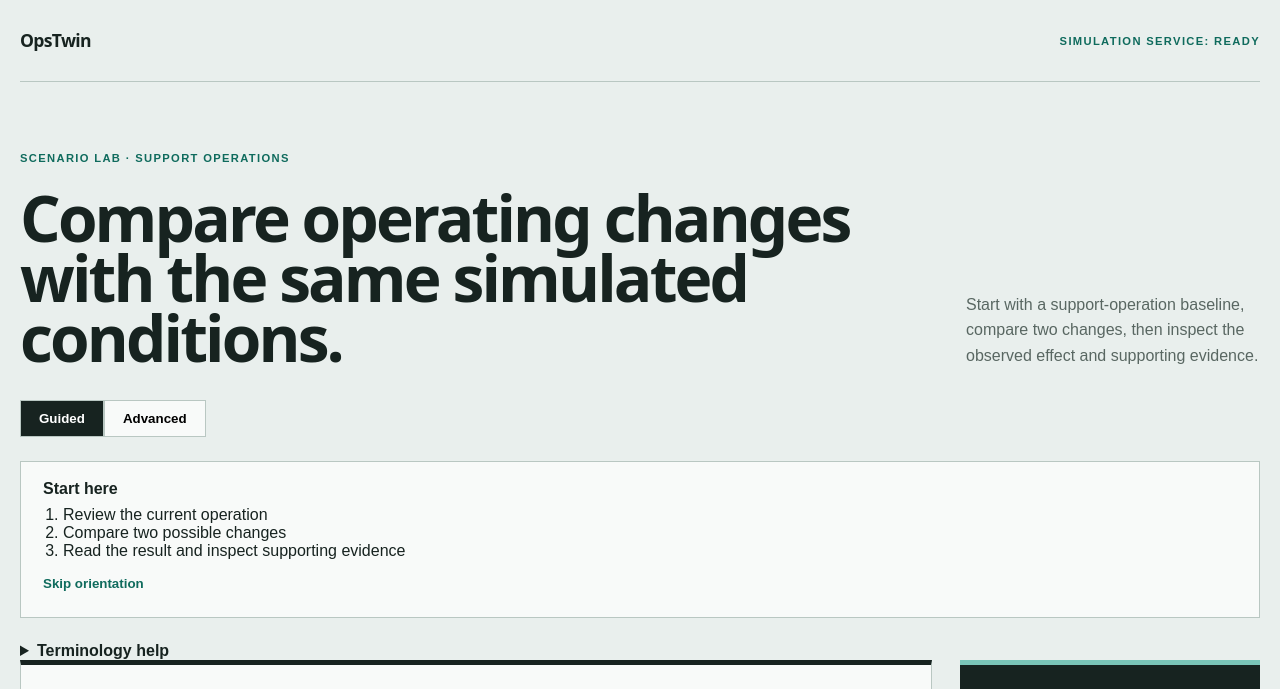
Test: Guided evidence navigation › preserves Advanced mode's full detailed workspace unchanged
Click the button "Advanced".
click(155, 419)  # box [104,400,206,438]
(page scrolled)
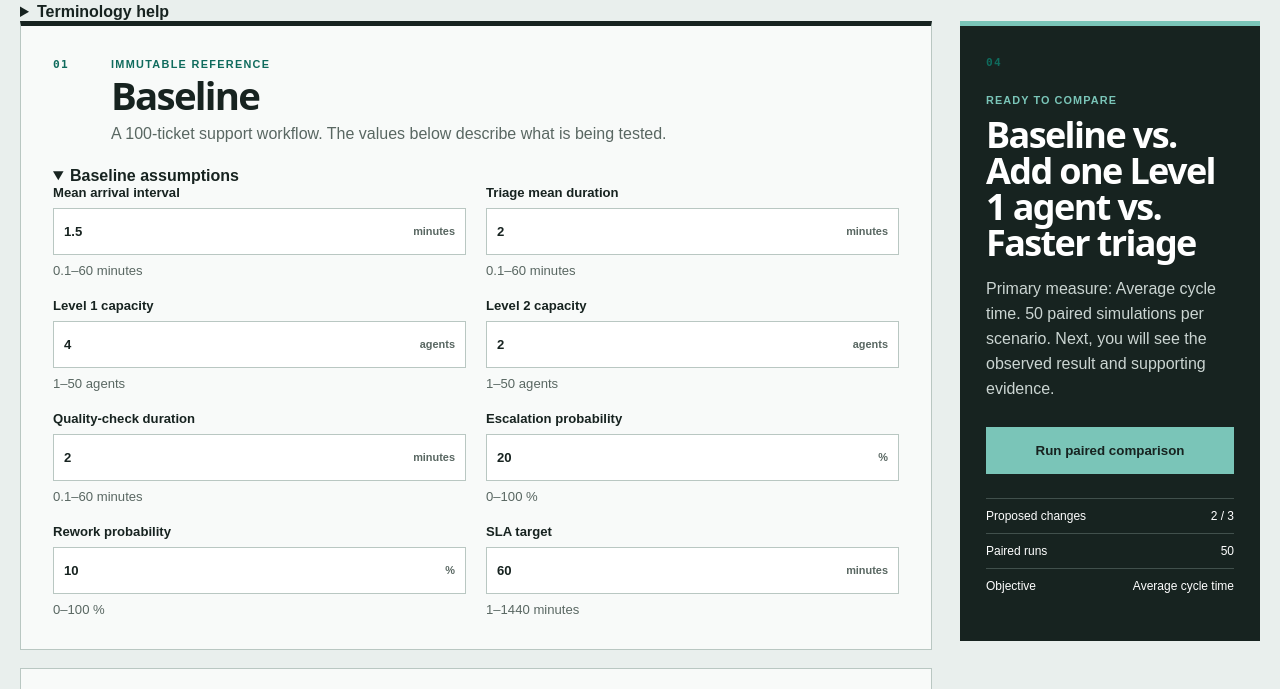
Click the button "Run paired comparison".
click(1110, 451)  # box [986,427,1234,474]
(page scrolled)
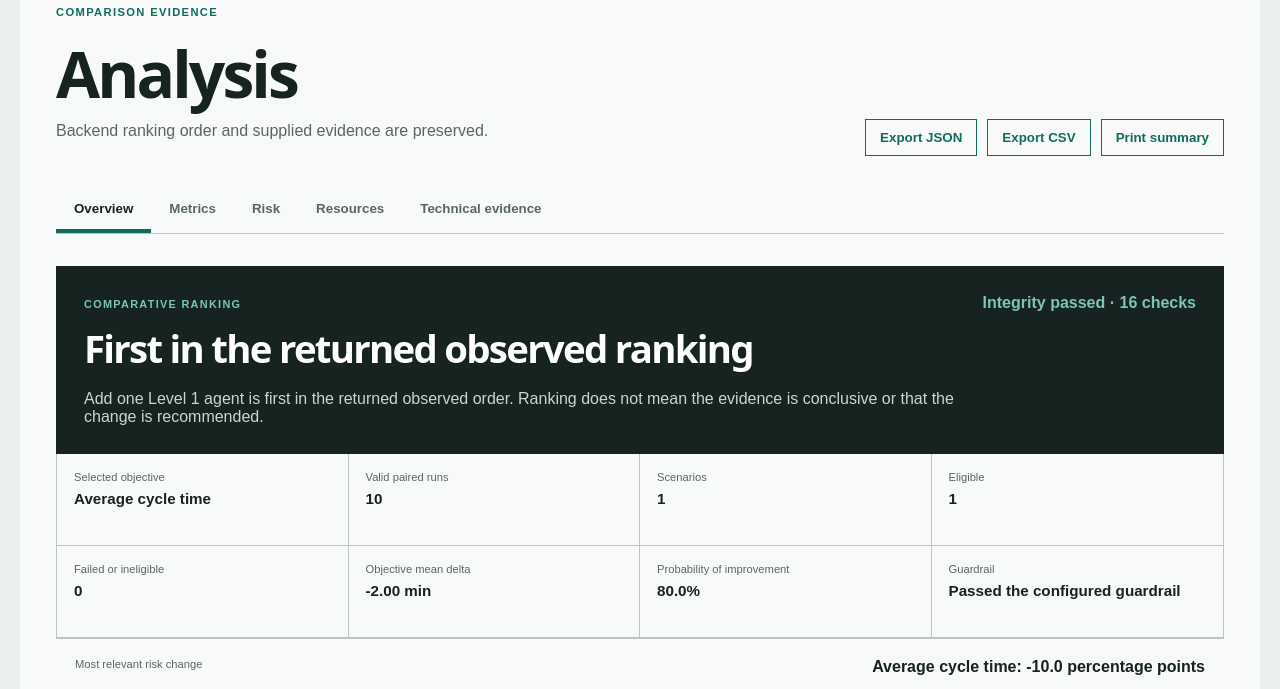
Expected: the heading "Analysis" is shown, [56,30,297,117]
Expected: the tab "Overview" is shown, [56,188,151,233]
